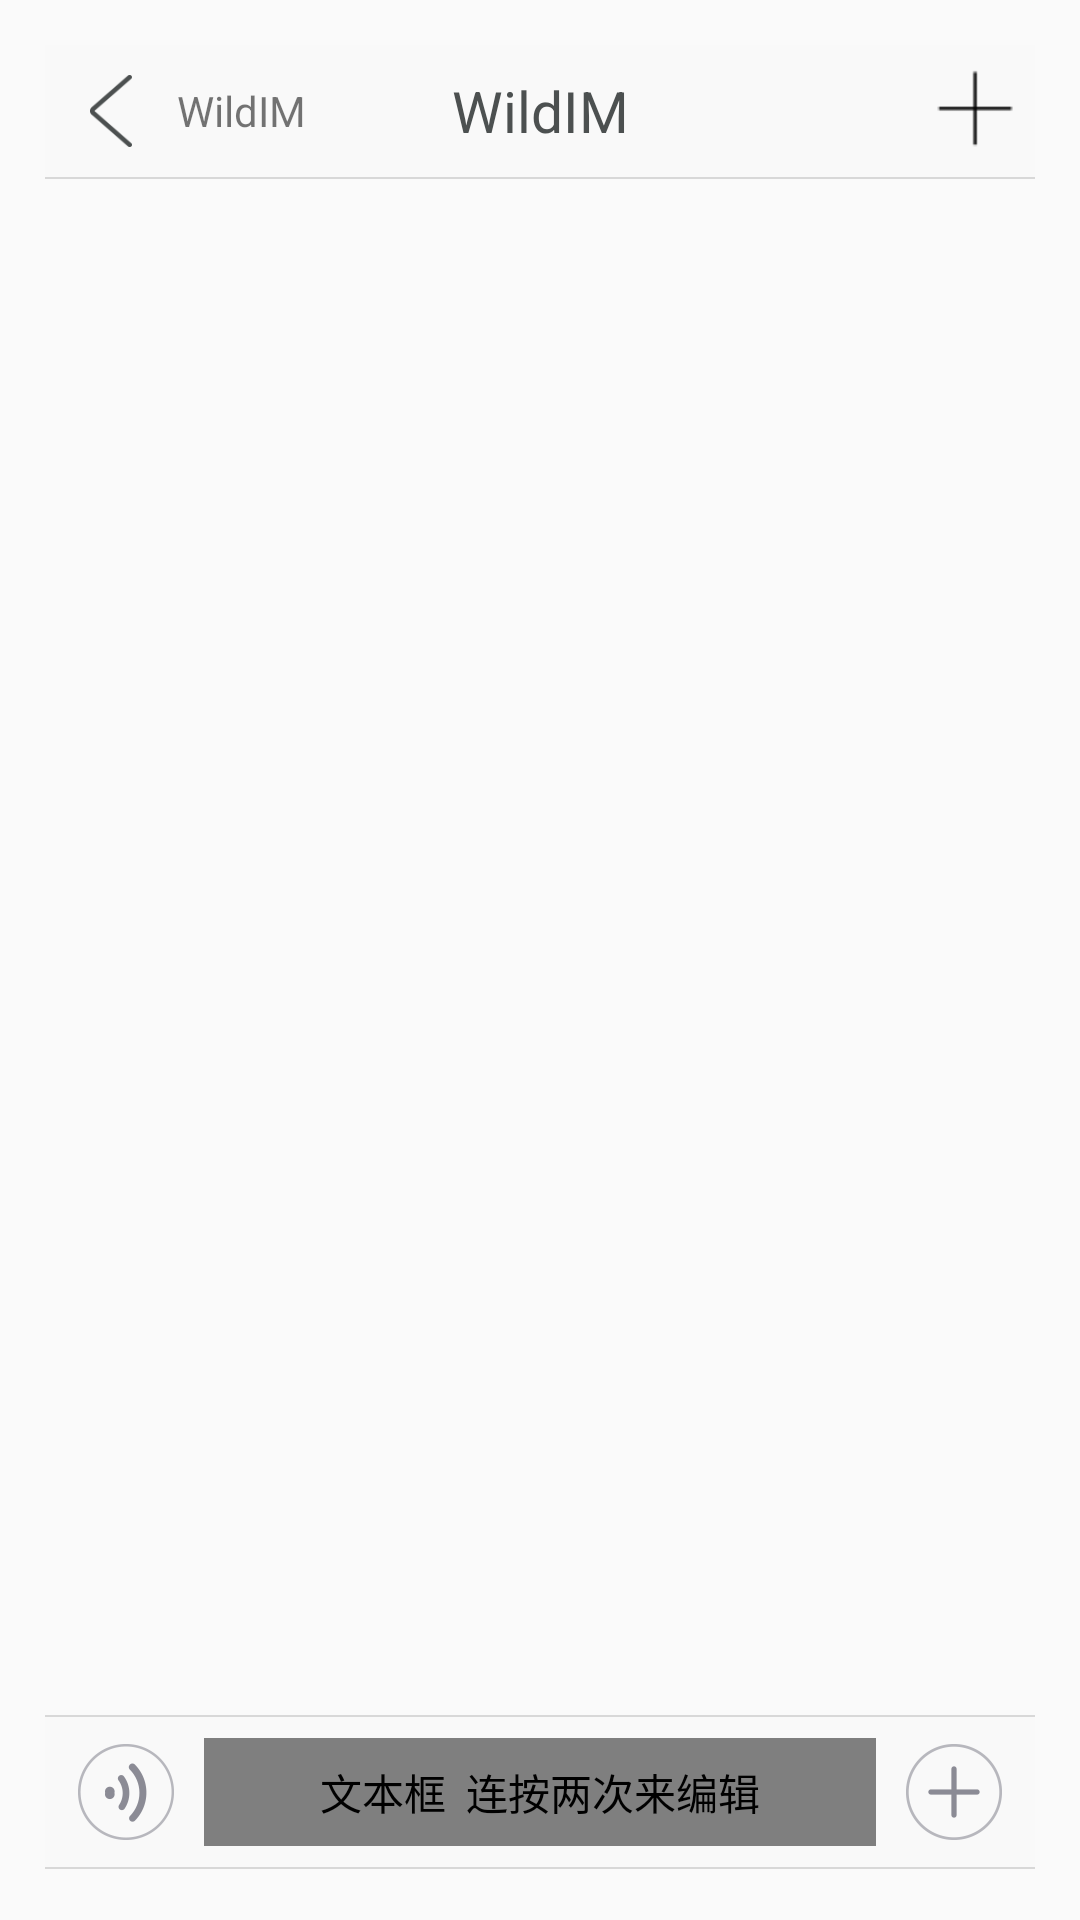

Named icons in this screenshot (1080px×1920px) and their centers, [x,y]:
addbutton: [975,108]
aio voice: [126,1792]
发照片等功能面板: [954,1792]
